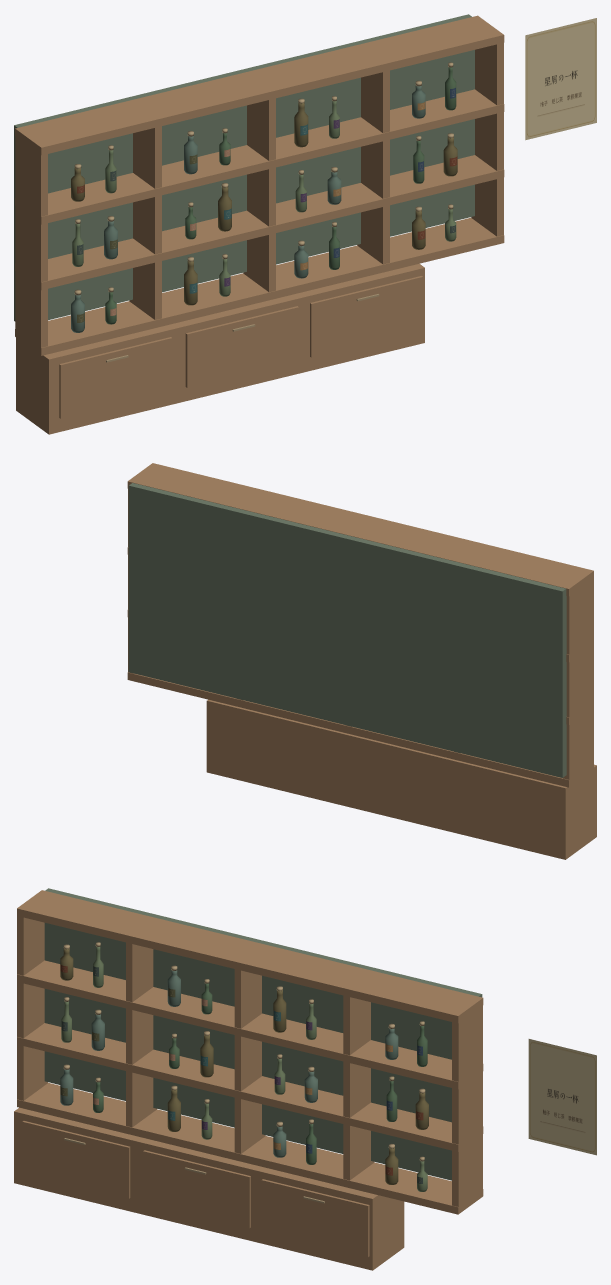
The model's file is yokocho-geometric-backbar.glb.
3 views of the same model, one above another, from view 1: azimuth 30°, elevation 25°; view 2: azimuth 150°, elevation 25°; view 3: azimuth 330°, elevation 25° (orthographic). The views are drawn at different scales.
Parts seen in each view (by area): view 1: Shops/S06/Personality/GeometricBackbar__Night_Walnut, Shops/S06/Personality/GeometricBackbar__Night_SmokyGlass, Shops/S06/Personality/GeometricBackbar__DarkTimber, Shops/S06/Personality/GeometricBackbar__Night_Print, Shops/S06/Personality/GeometricBackbar__Bronze; view 2: Shops/S06/Personality/GeometricBackbar__Night_SmokyGlass, Shops/S06/Personality/GeometricBackbar__Night_Walnut; view 3: Shops/S06/Personality/GeometricBackbar__Night_Walnut, Shops/S06/Personality/GeometricBackbar__Night_SmokyGlass, Shops/S06/Personality/GeometricBackbar__DarkTimber, Shops/S06/Personality/GeometricBackbar__Night_Print, Shops/S06/Personality/GeometricBackbar__Bronze.
Boxes of the visible parts, box(x1,y1,x2,y2) form: Shops/S06/Personality/GeometricBackbar__Night_Walnut: box(15, 15, 504, 434); Shops/S06/Personality/GeometricBackbar__Night_SmokyGlass: box(14, 14, 474, 332); Shops/S06/Personality/GeometricBackbar__DarkTimber: box(59, 276, 423, 418); Shops/S06/Personality/GeometricBackbar__Night_Print: box(77, 18, 596, 322); Shops/S06/Personality/GeometricBackbar__Bronze: box(74, 62, 453, 362); Shops/S06/Personality/GeometricBackbar__Night_SmokyGlass: box(128, 483, 566, 777); Shops/S06/Personality/GeometricBackbar__Night_Walnut: box(127, 463, 596, 859); Shops/S06/Personality/GeometricBackbar__Night_Walnut: box(14, 890, 483, 1270); Shops/S06/Personality/GeometricBackbar__Night_SmokyGlass: box(44, 888, 482, 1191); Shops/S06/Personality/GeometricBackbar__DarkTimber: box(22, 1121, 369, 1256); Shops/S06/Personality/GeometricBackbar__Night_Print: box(60, 965, 596, 1183); Shops/S06/Personality/GeometricBackbar__Bronze: box(63, 942, 425, 1203).
Size of the model in its own units: 5.11 by 2.38 by 0.5825.
5 materials, 1 textured.
